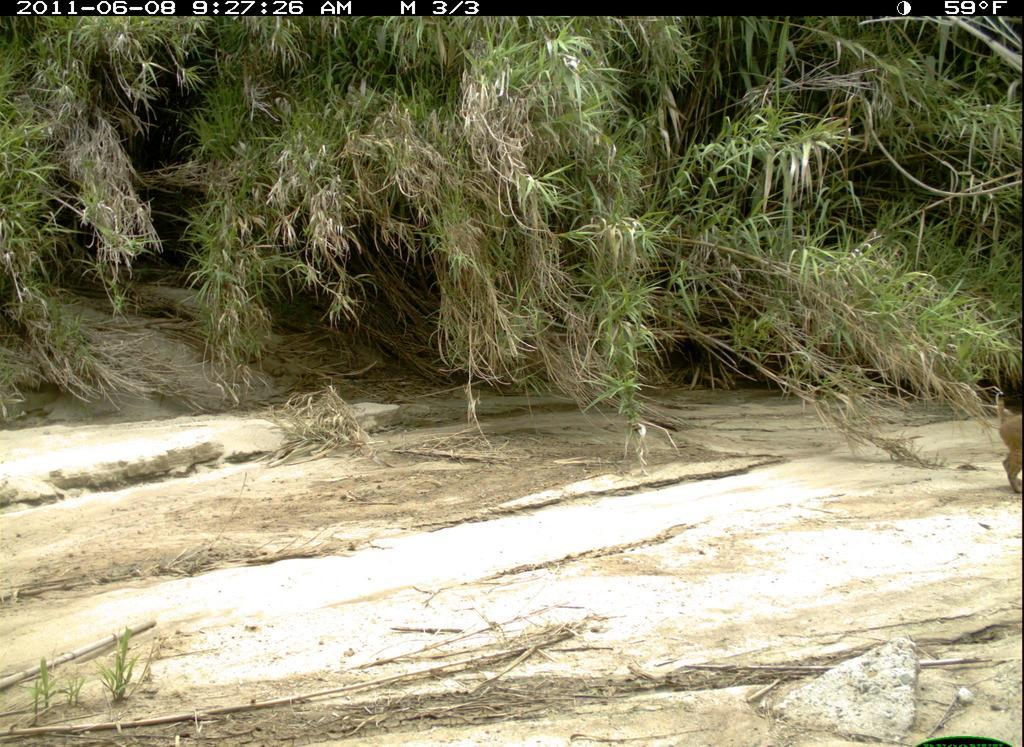bobcat: (975, 392, 1022, 497)
